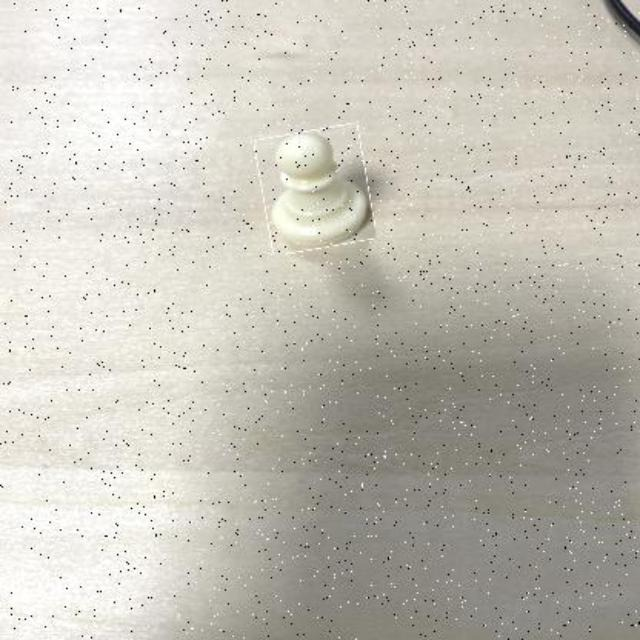white-pawn: (258, 127, 371, 251)
